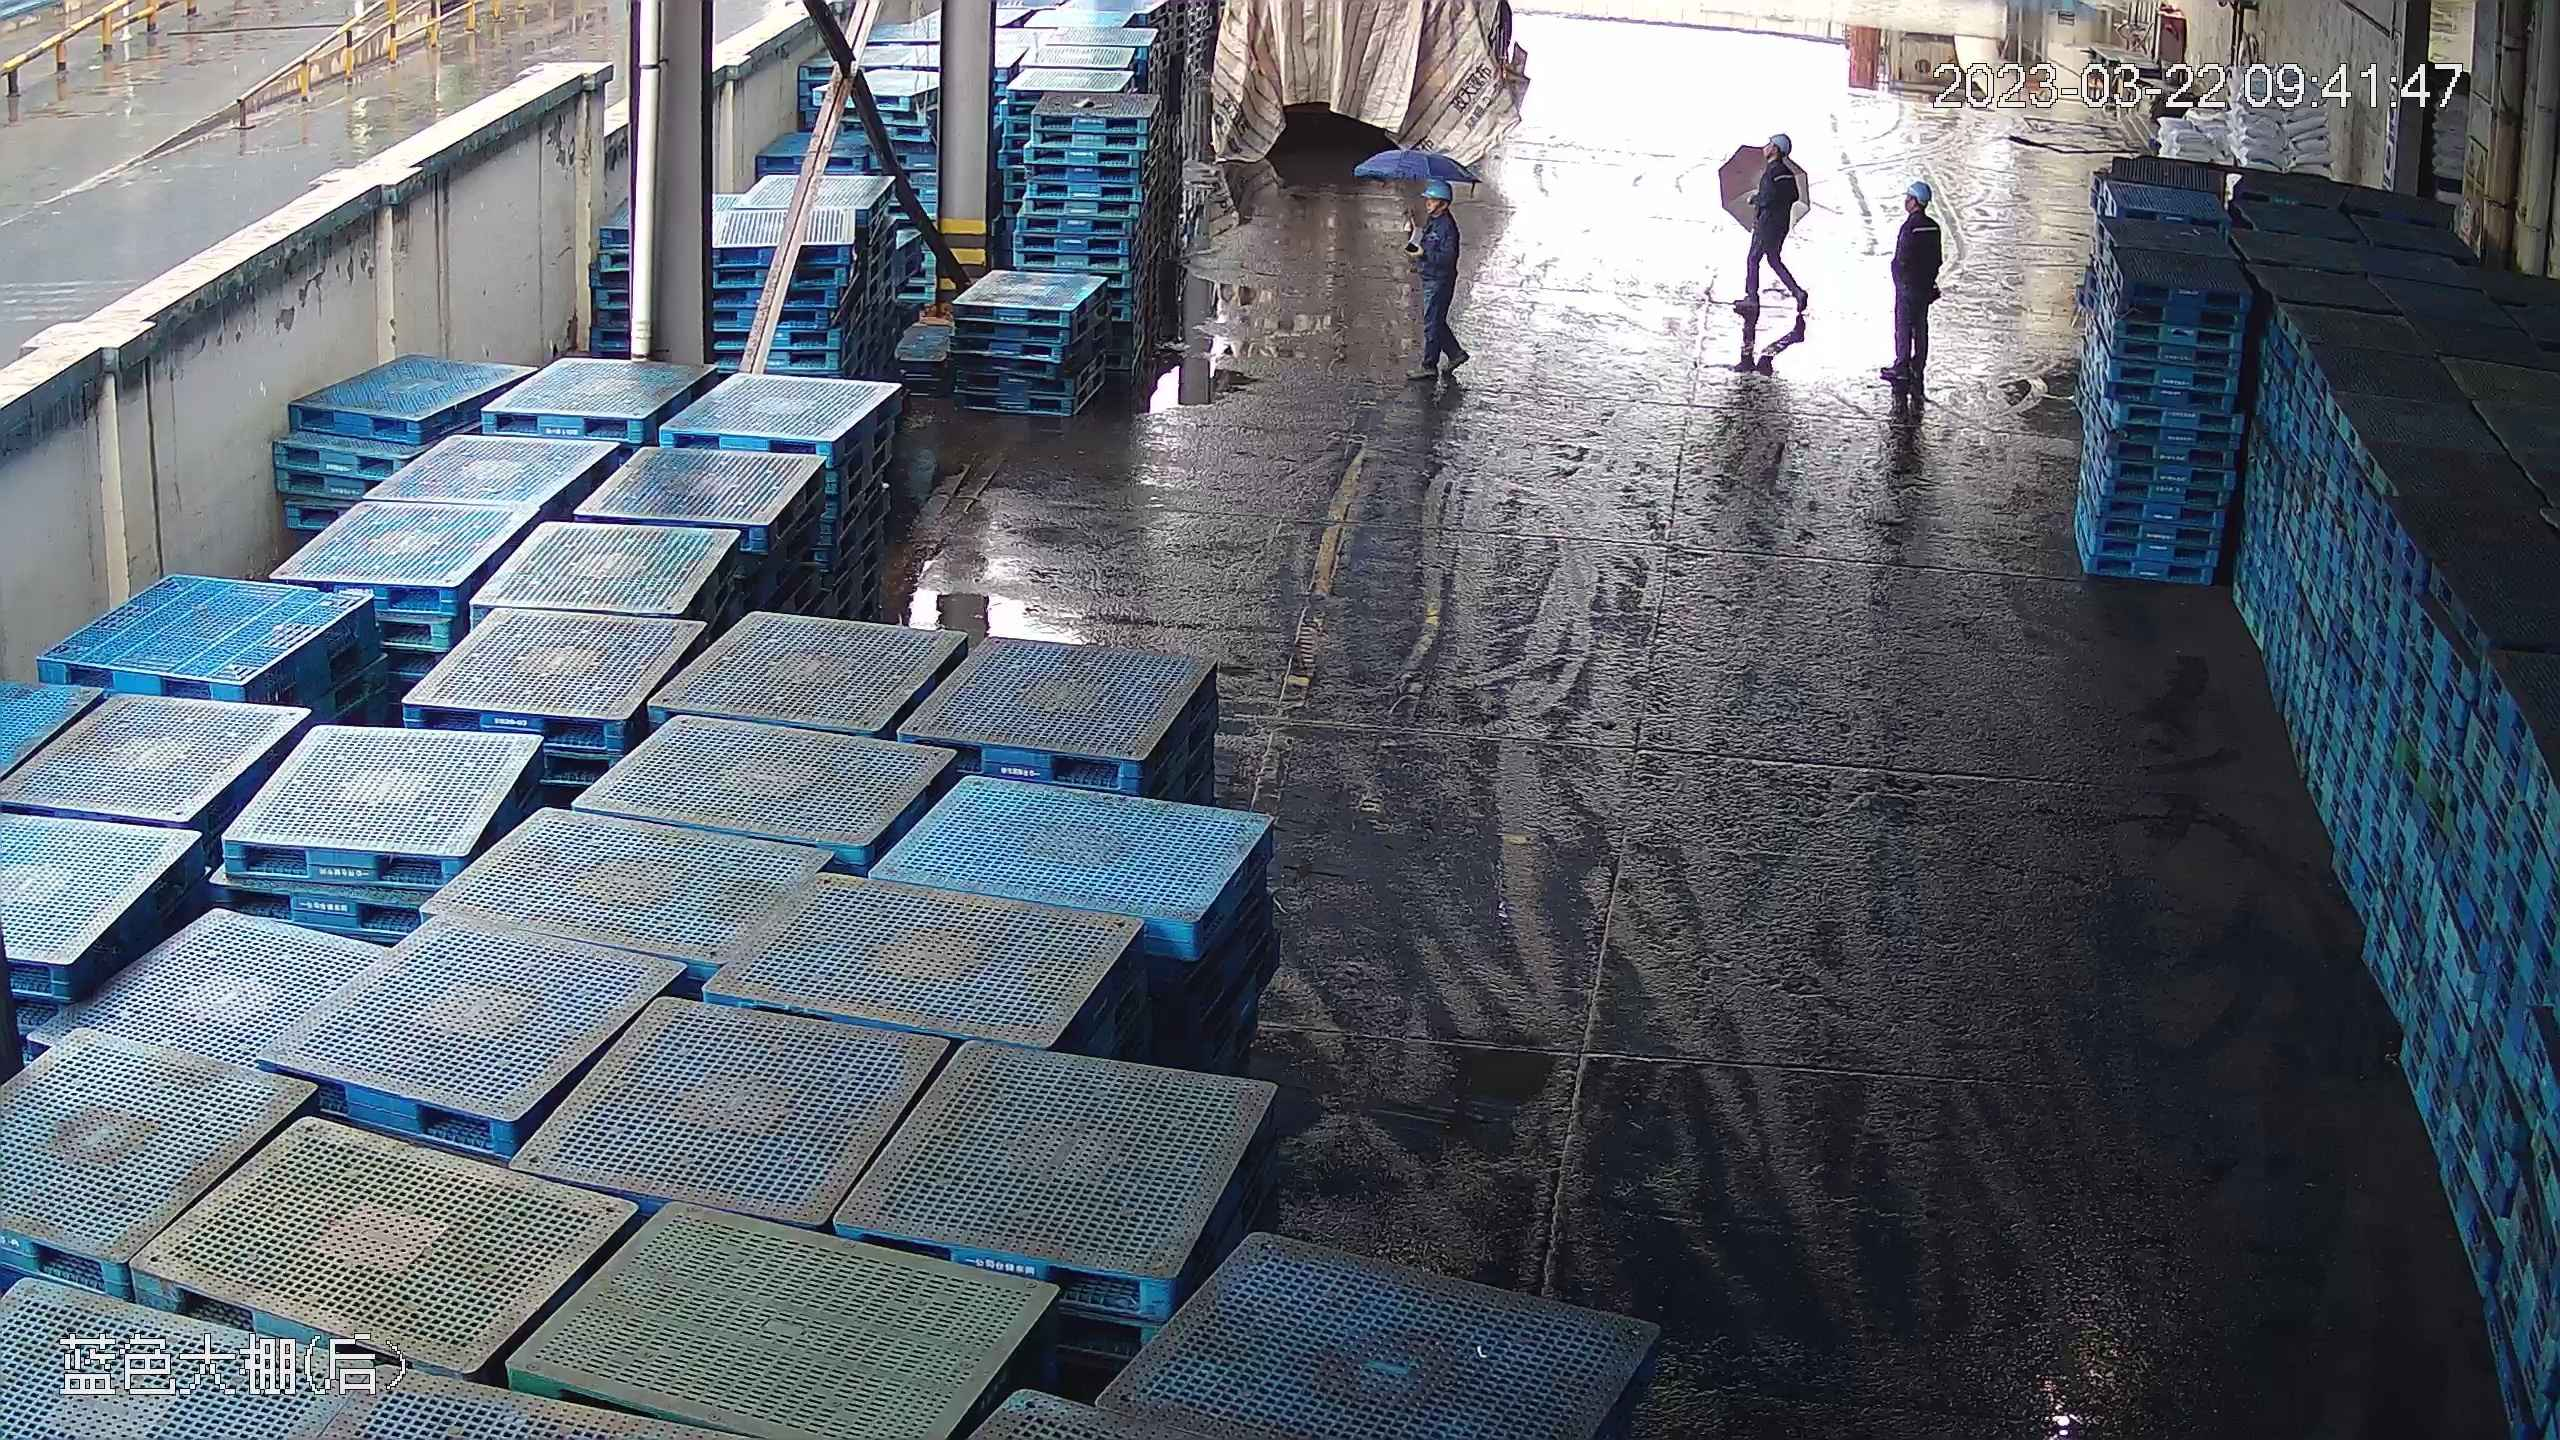head: (1746, 120, 1808, 188), (1893, 173, 1944, 245), (1412, 181, 1461, 242)
helmet: (1419, 180, 1454, 203), (1766, 122, 1796, 148), (1903, 175, 1932, 201)
people: (1723, 113, 1811, 352), (1880, 173, 1944, 443), (1407, 177, 1469, 380)
